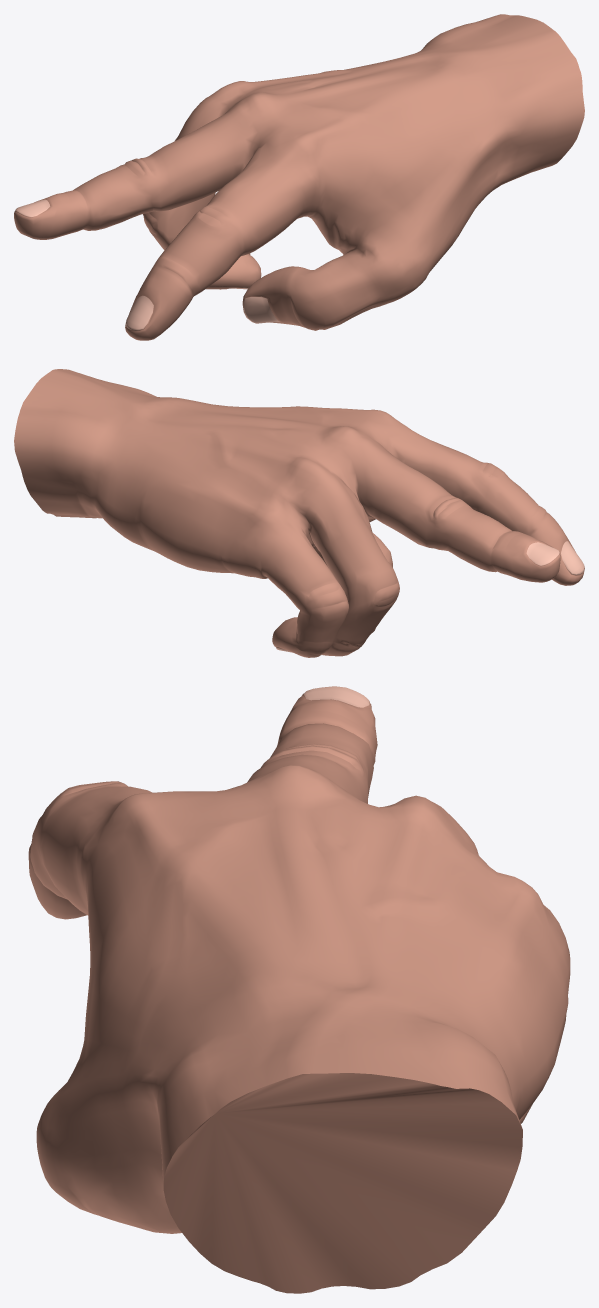
Rendered from hand_24.obj.
The picture shows the model from 3 angles, top to bottom: view 1: azimuth 30°, elevation 25°; view 2: azimuth 150°, elevation 25°; view 3: azimuth 270°, elevation 25°; orthographic projection. The views are drawn at different scales.
Parts seen in each view (by area): view 1: Figure_2; view 2: Figure_2; view 3: Figure_2.
Boxes of the visible parts, bbox=[...] form: Figure_2: bbox=[14, 14, 584, 340]; Figure_2: bbox=[14, 369, 584, 657]; Figure_2: bbox=[28, 686, 570, 1293].
Bounding box in the file's own units: 0.8937 × 0.3504 × 0.4066.
